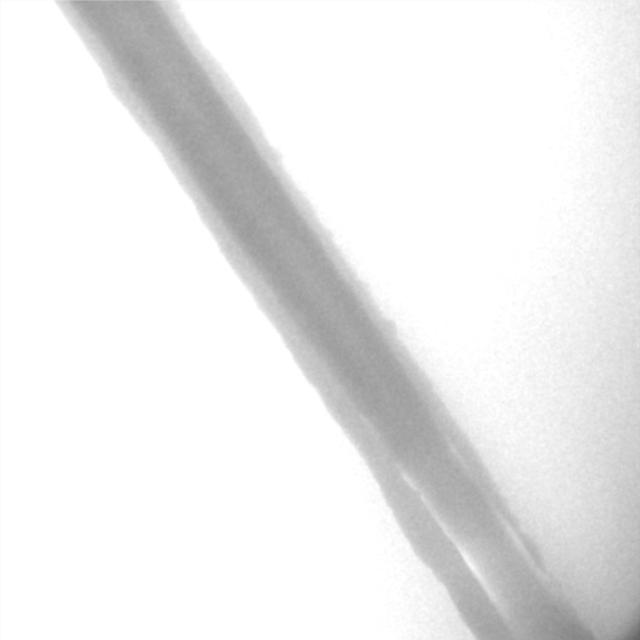unfused: (396, 445, 545, 615)
